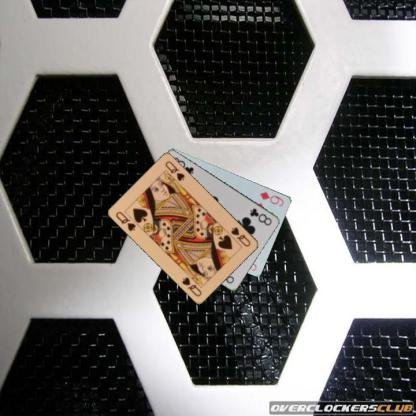6d: (257, 189, 286, 207)
8c: (248, 205, 274, 227)
Qs: (228, 224, 252, 248), (113, 209, 138, 232)
